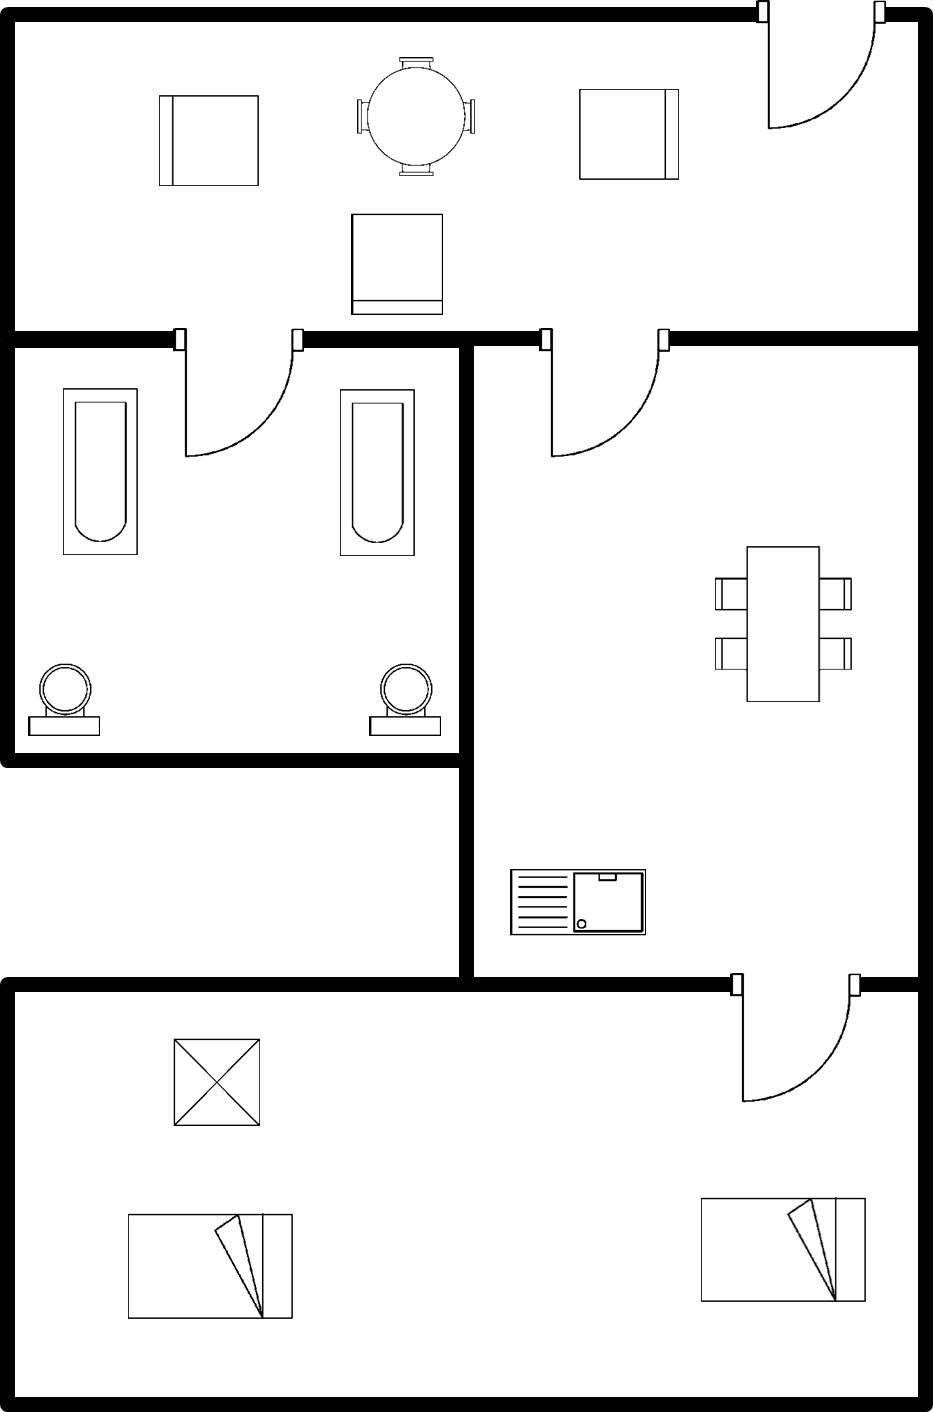bed: (114, 1201, 301, 1328), (689, 1183, 874, 1312)
dining_table: (700, 532, 859, 714)
round_table: (348, 47, 489, 184)
sink: (494, 857, 657, 945)
toilet: (19, 654, 115, 742), (356, 654, 446, 746)
tub: (327, 377, 422, 568), (53, 379, 148, 566)
